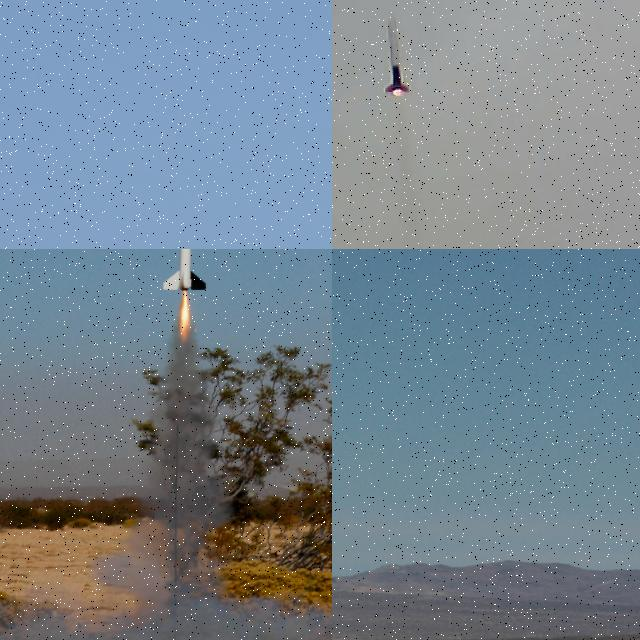Rocket: (383, 12, 412, 94), (162, 249, 206, 290)
